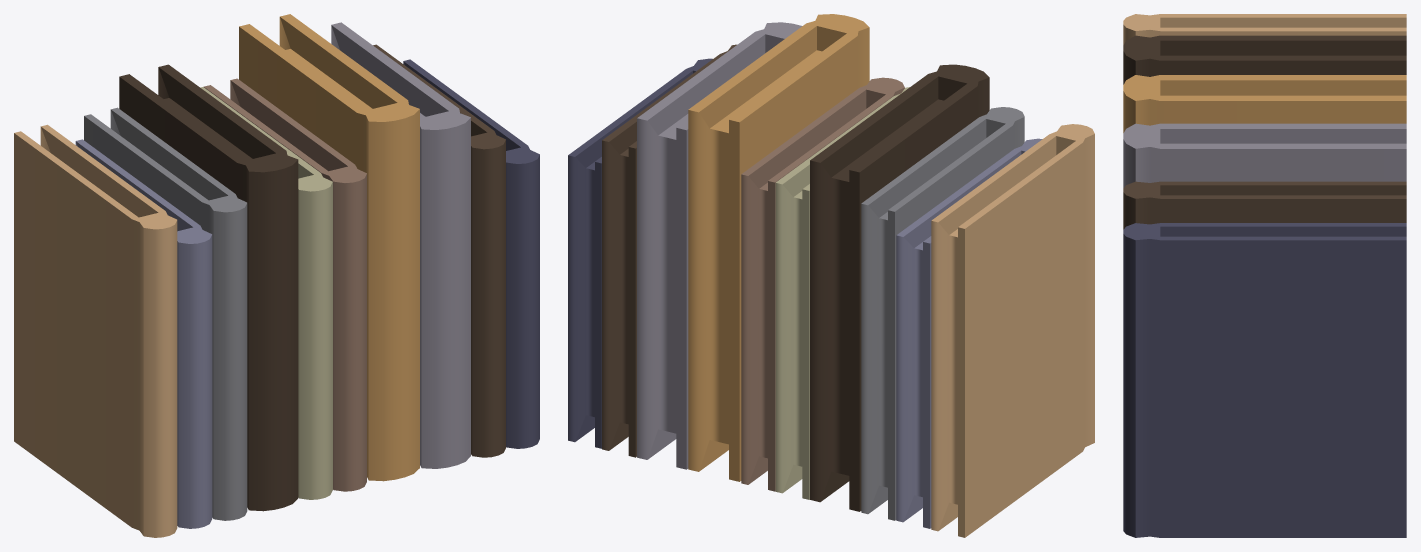
The model's file is colored books2 deskroom.fbx.
The picture shows the model from 3 angles, left to right: view 1: azimuth 30°, elevation 25°; view 2: azimuth 150°, elevation 25°; view 3: azimuth 270°, elevation 25°; orthographic projection. The views are drawn at different scales.
Visible parts, largest first — view 1: pCube10, pCube1, pCube4, pCube5, pCube7, pCube2, pCube8, pCube6, pCube3, pCube9; view 2: pCube10, pCube1, pCube4, pCube5, pCube7, pCube2, pCube8, pCube6, pCube3, pCube9; view 3: pCube9, pCube5, pCube1, pCube6, pCube4, pCube10.
Part boxes in pixels (left/top/right/bottom): pCube10: left=14, top=124, right=177, bottom=537; pCube1: left=239, top=14, right=419, bottom=481; pCube4: left=119, top=64, right=298, bottom=511; pCube5: left=331, top=22, right=470, bottom=468; pCube7: left=84, top=107, right=247, bottom=520; pCube2: left=204, top=78, right=366, bottom=491; pCube8: left=75, top=139, right=212, bottom=528; pCube6: left=373, top=44, right=505, bottom=457; pCube3: left=200, top=87, right=332, bottom=499; pCube9: left=403, top=59, right=539, bottom=448; pCube10: left=931, top=124, right=1094, bottom=537; pCube1: left=688, top=14, right=869, bottom=481; pCube4: left=810, top=64, right=989, bottom=511; pCube5: left=637, top=22, right=801, bottom=469; pCube7: left=861, top=107, right=1024, bottom=520; pCube2: left=741, top=77, right=904, bottom=491; pCube8: left=896, top=138, right=1042, bottom=528; pCube6: left=602, top=44, right=736, bottom=457; pCube3: left=775, top=87, right=909, bottom=499; pCube9: left=568, top=58, right=712, bottom=448; pCube9: left=1123, top=223, right=1406, bottom=537; pCube5: left=1123, top=123, right=1406, bottom=187; pCube1: left=1123, top=75, right=1406, bottom=132; pCube6: left=1123, top=181, right=1406, bottom=229; pCube4: left=1123, top=35, right=1406, bottom=84; pCube10: left=1123, top=14, right=1406, bottom=44.
Bounding box in the file's own units: 0.3373 × 0.2929 × 0.1999.
